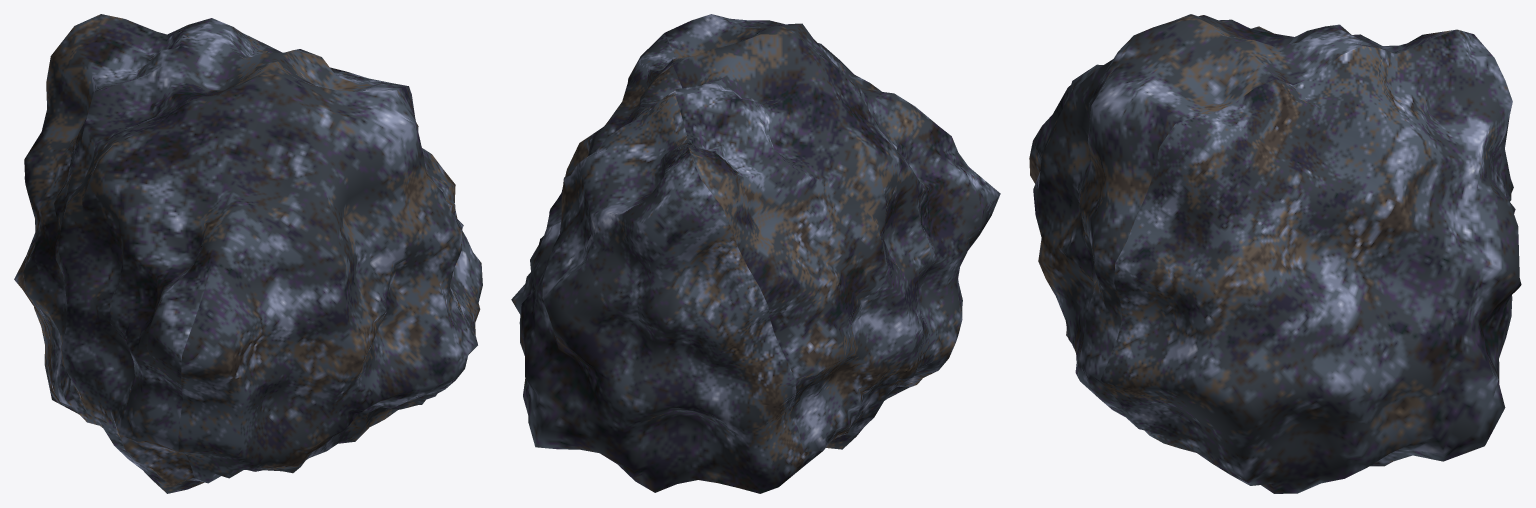
The model's file is SM_Rock_007.fbx.
The picture shows the model from 3 angles, left to right: view 1: azimuth 30°, elevation 25°; view 2: azimuth 150°, elevation 25°; view 3: azimuth 270°, elevation 25°; orthographic projection. The views are drawn at different scales.
Parts seen in each view (by area): view 1: rock.007; view 2: rock.007; view 3: rock.007.
Boxes of the visible parts, x1=… form: rock.007: x1=14, y1=14, x2=482, y2=493; rock.007: x1=511, y1=14, x2=1000, y2=493; rock.007: x1=1029, y1=14, x2=1521, y2=493.
Bounding box in the file's own units: 3.5 × 3.66 × 3.45.
